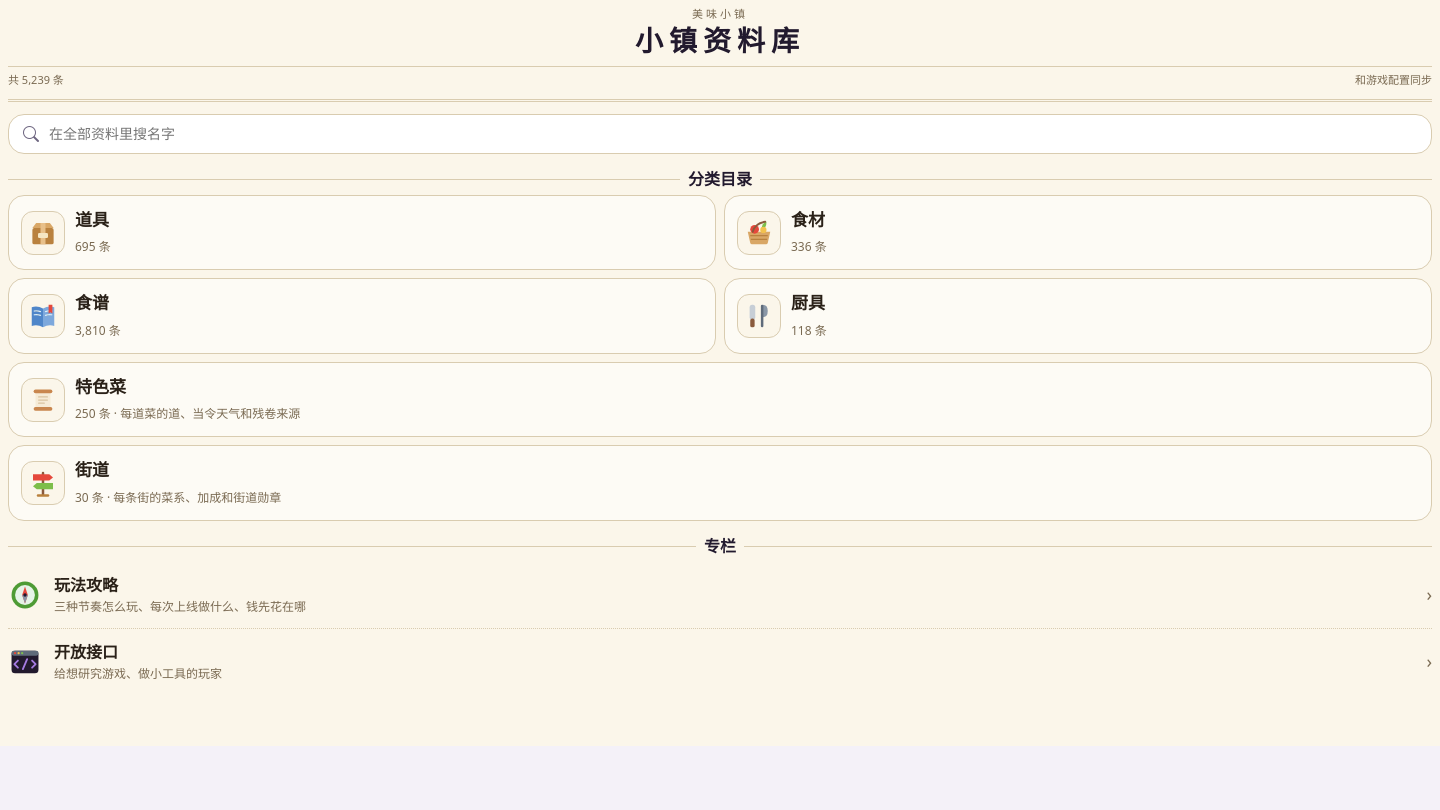
Scenario: 游戏资料首页（问题记录 142） › 每组最多列 3 条，多的给“看全部”，跳到那一类的列表并带上搜索词
The width and height of the screenshot is (1440, 810).
In the search field with test id "wiki-home-q": (732, 134) [47,122,1417,145], type "礼盒"
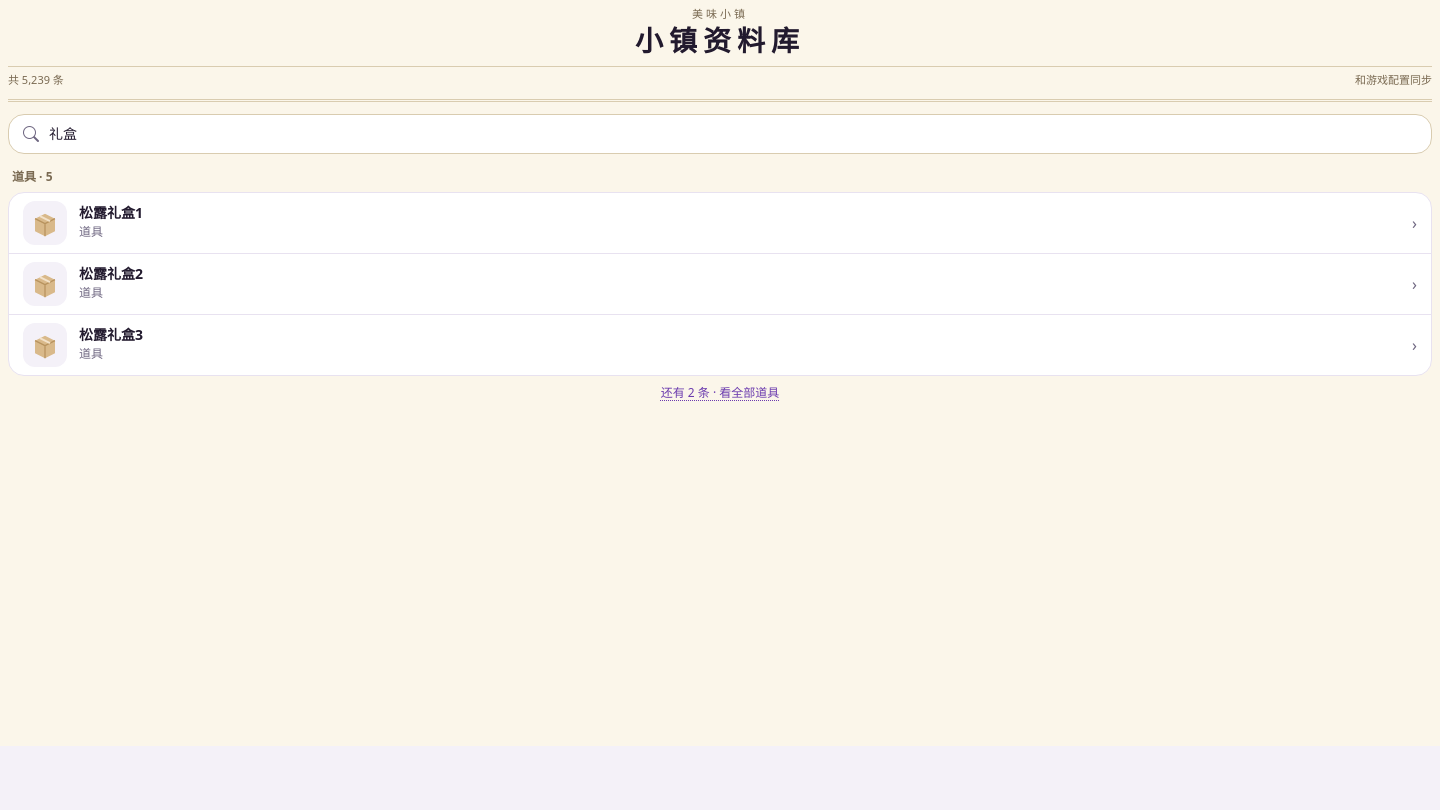
Check: the text with class "dt-wiki-group" reads "道具 · 5", box [12,168,52,185]
Check: the link with test id "wiki-all-goods" reads "还有 2 条 · 看全部道具", box [661,384,779,401]
